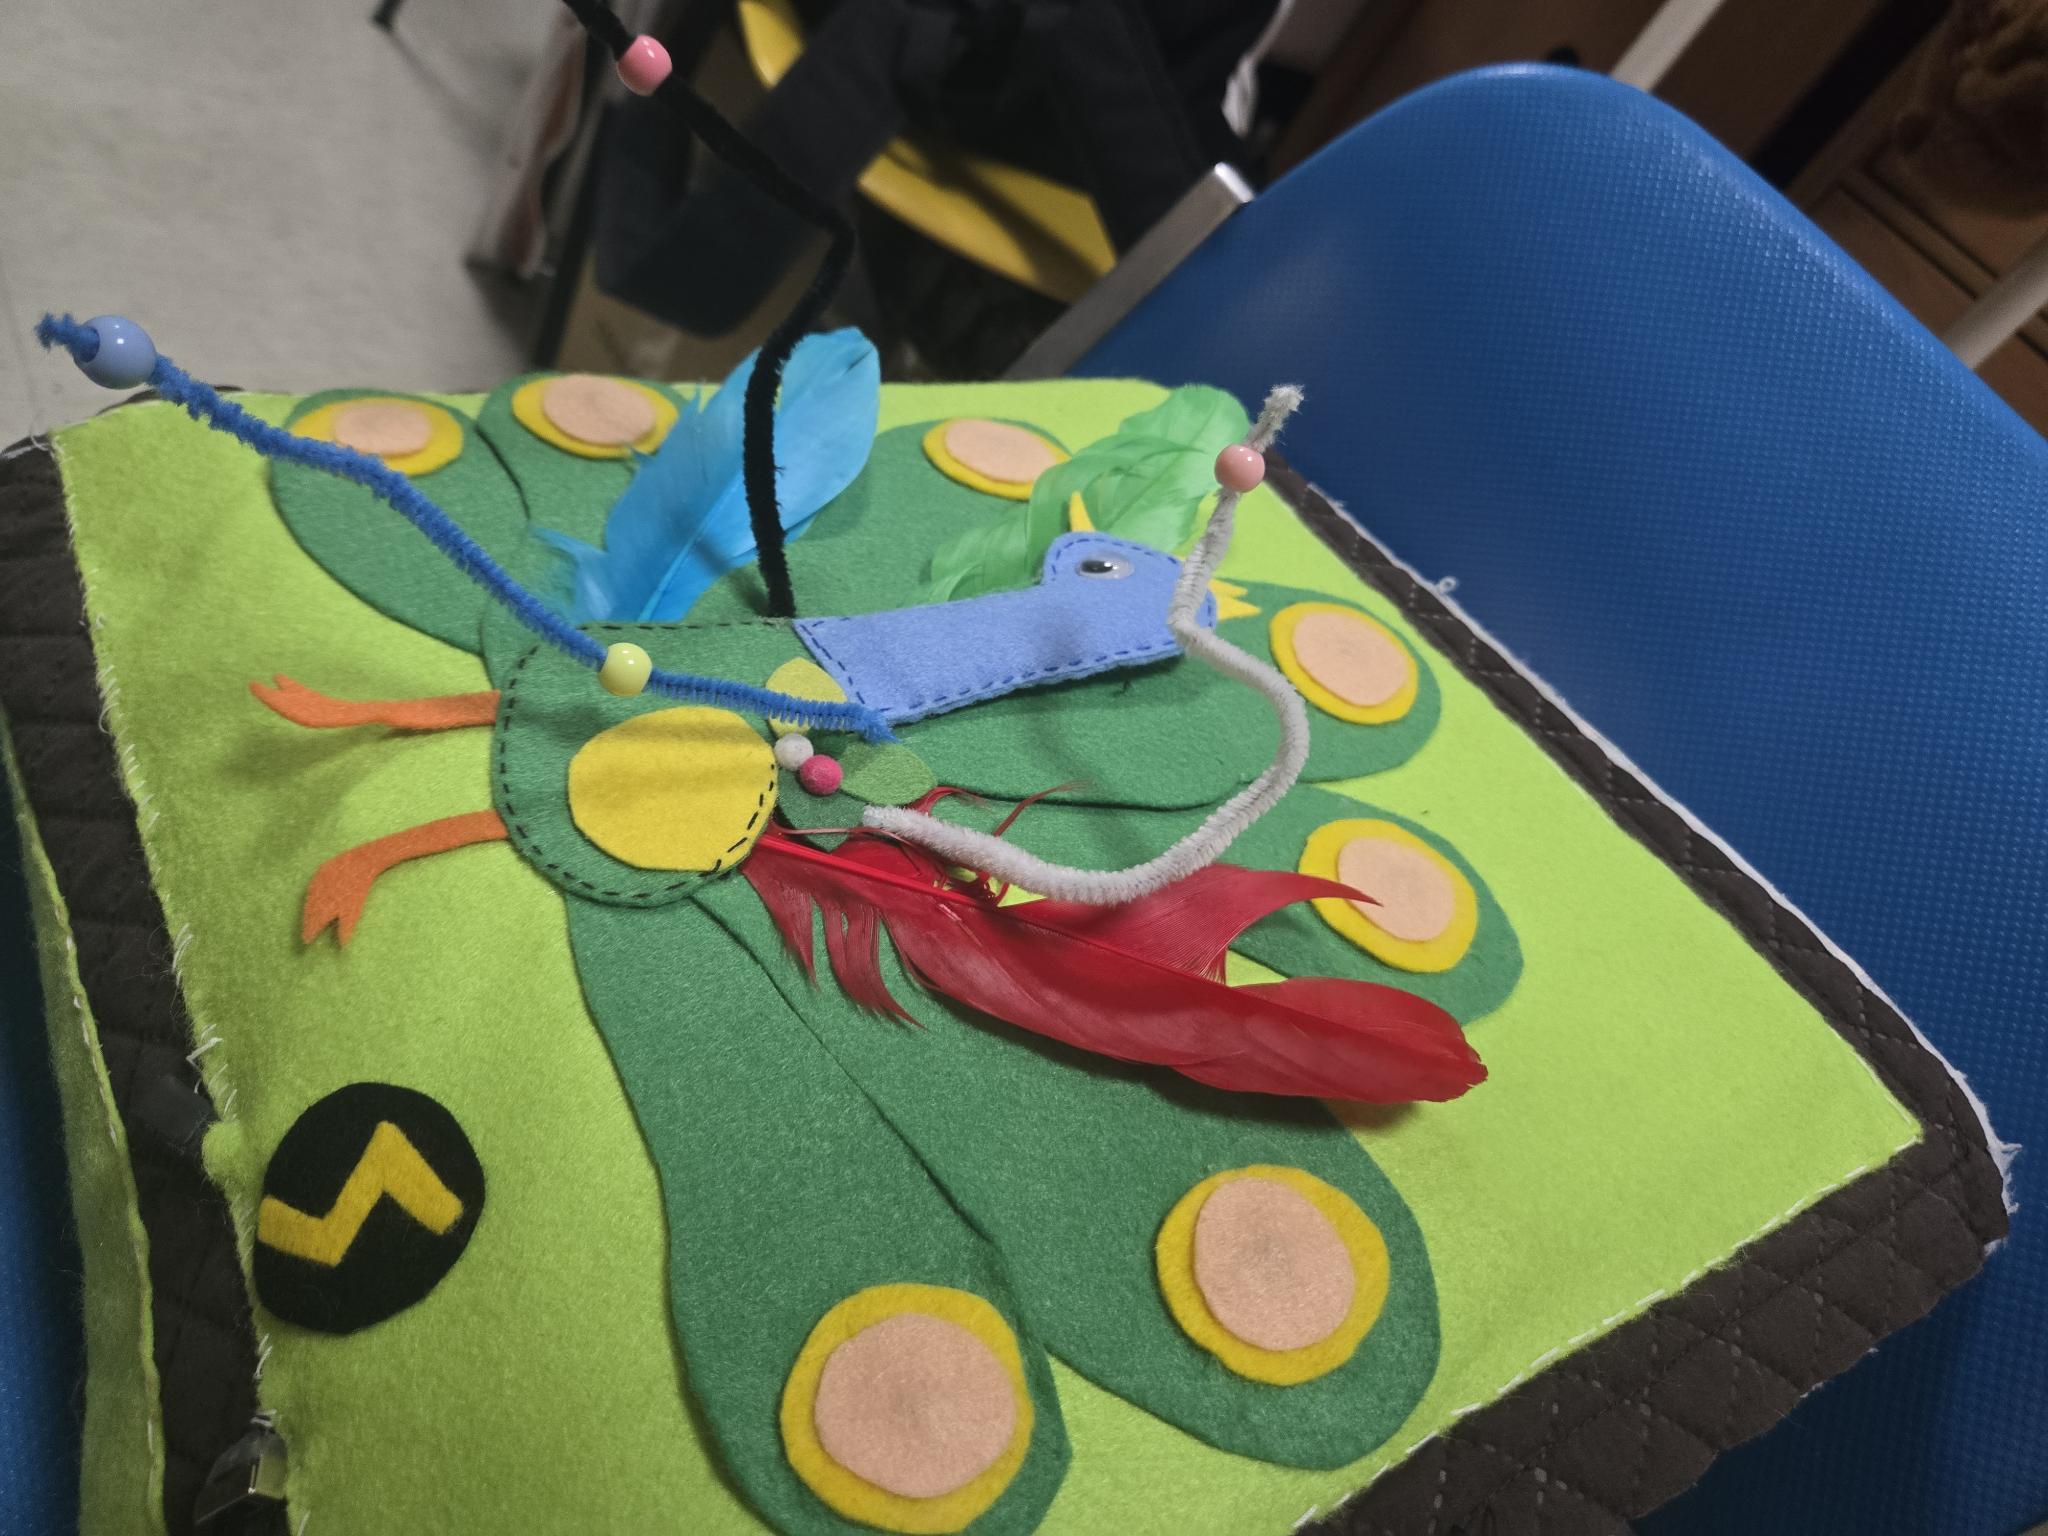bead: (66, 282, 168, 402), (589, 621, 663, 705), (1208, 426, 1282, 507)
